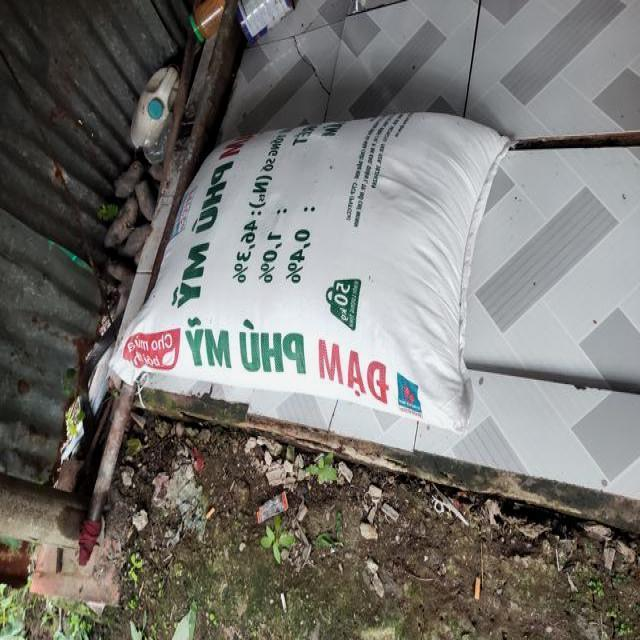gunny_bag: (110, 112, 508, 431)
